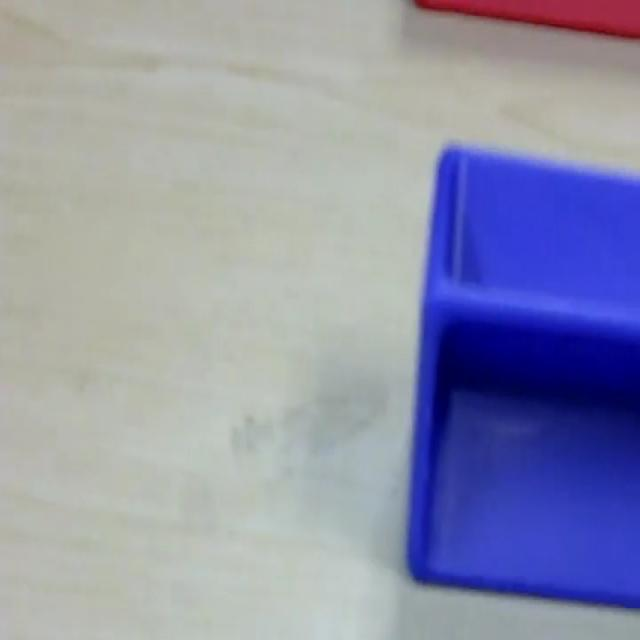blue_block: (404, 137, 638, 608)
